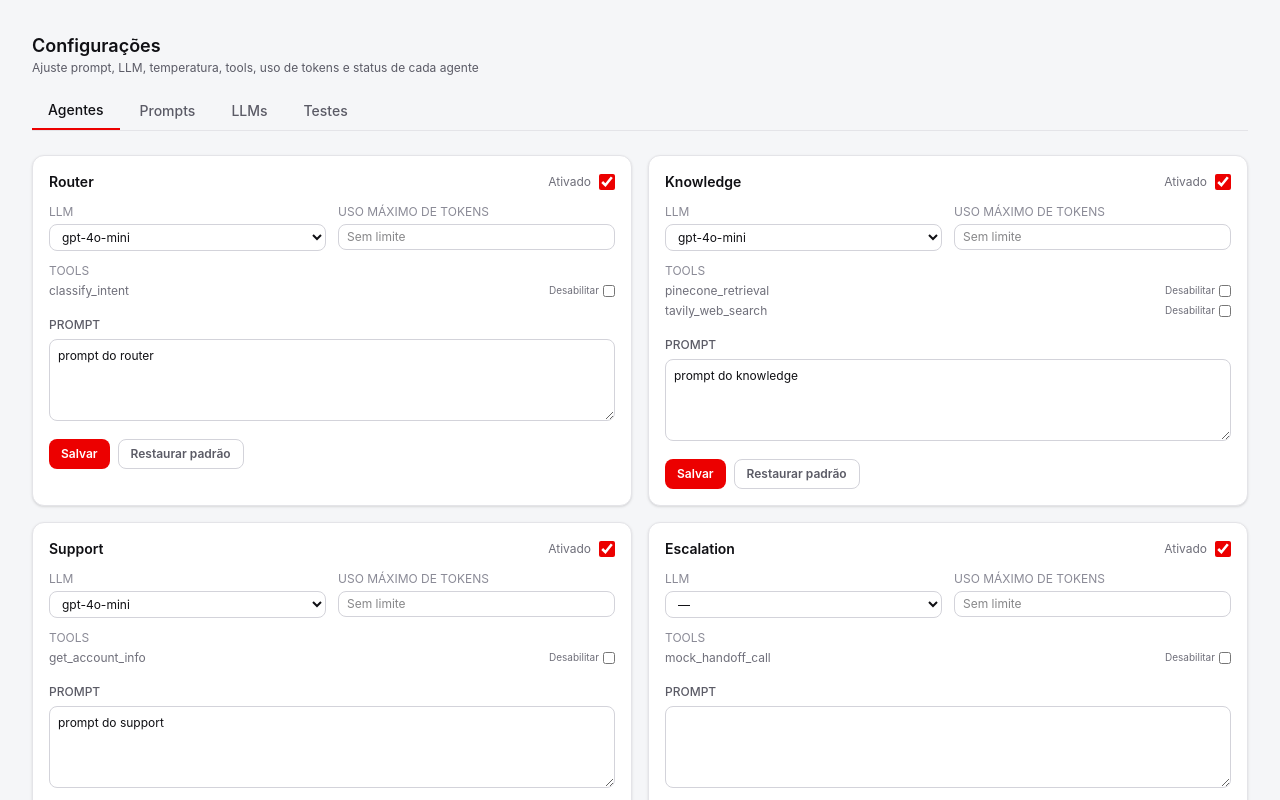
Test case: SettingsPage › toggling an agent off updates the card visible enabled/disabled state
Expected: the text with test id "agent-enabled-state" in the row of "Knowledge" reads "Ativado", [1164,174,1207,189]
Click the checkbox named "Ativar/desativar Knowledge" at coordinates (1223, 182), box [1215,174,1231,190]
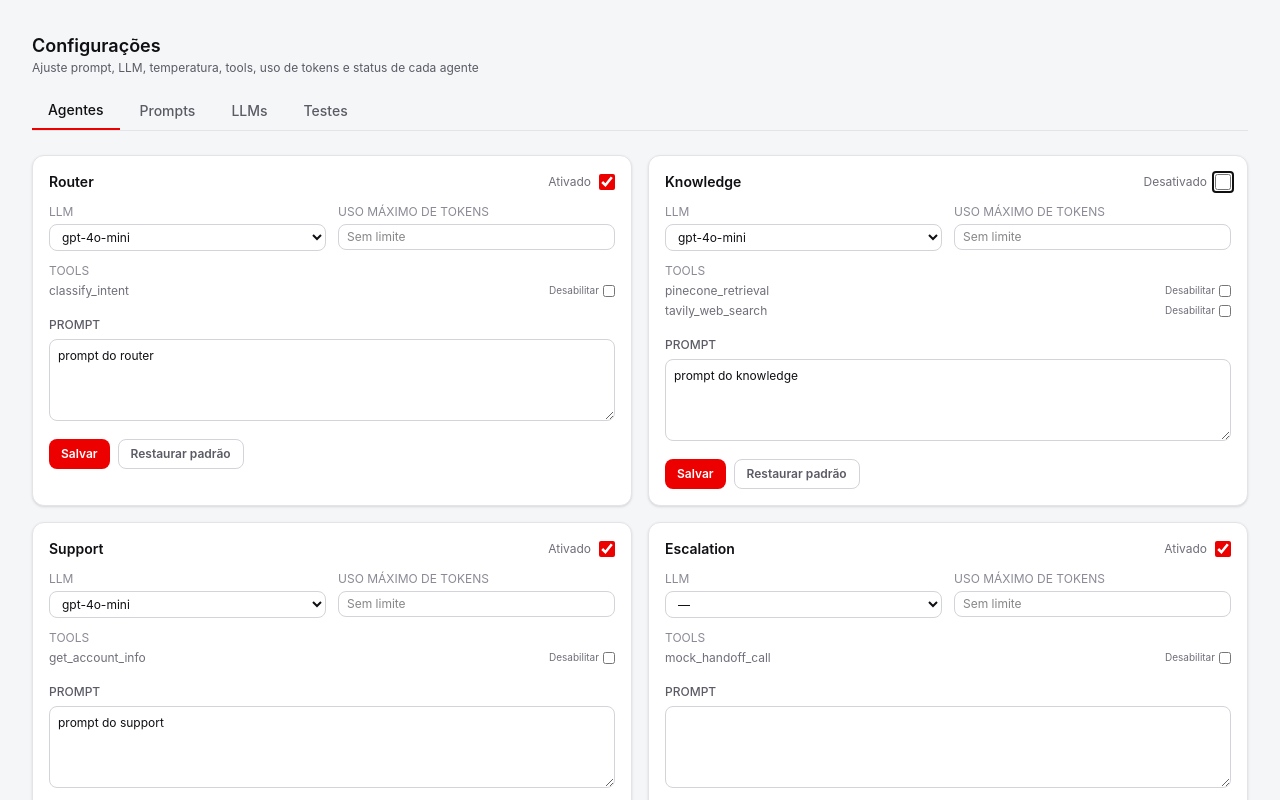
Expected: the text with test id "agent-enabled-state" reads "Desativado", [1144,174,1207,189]
